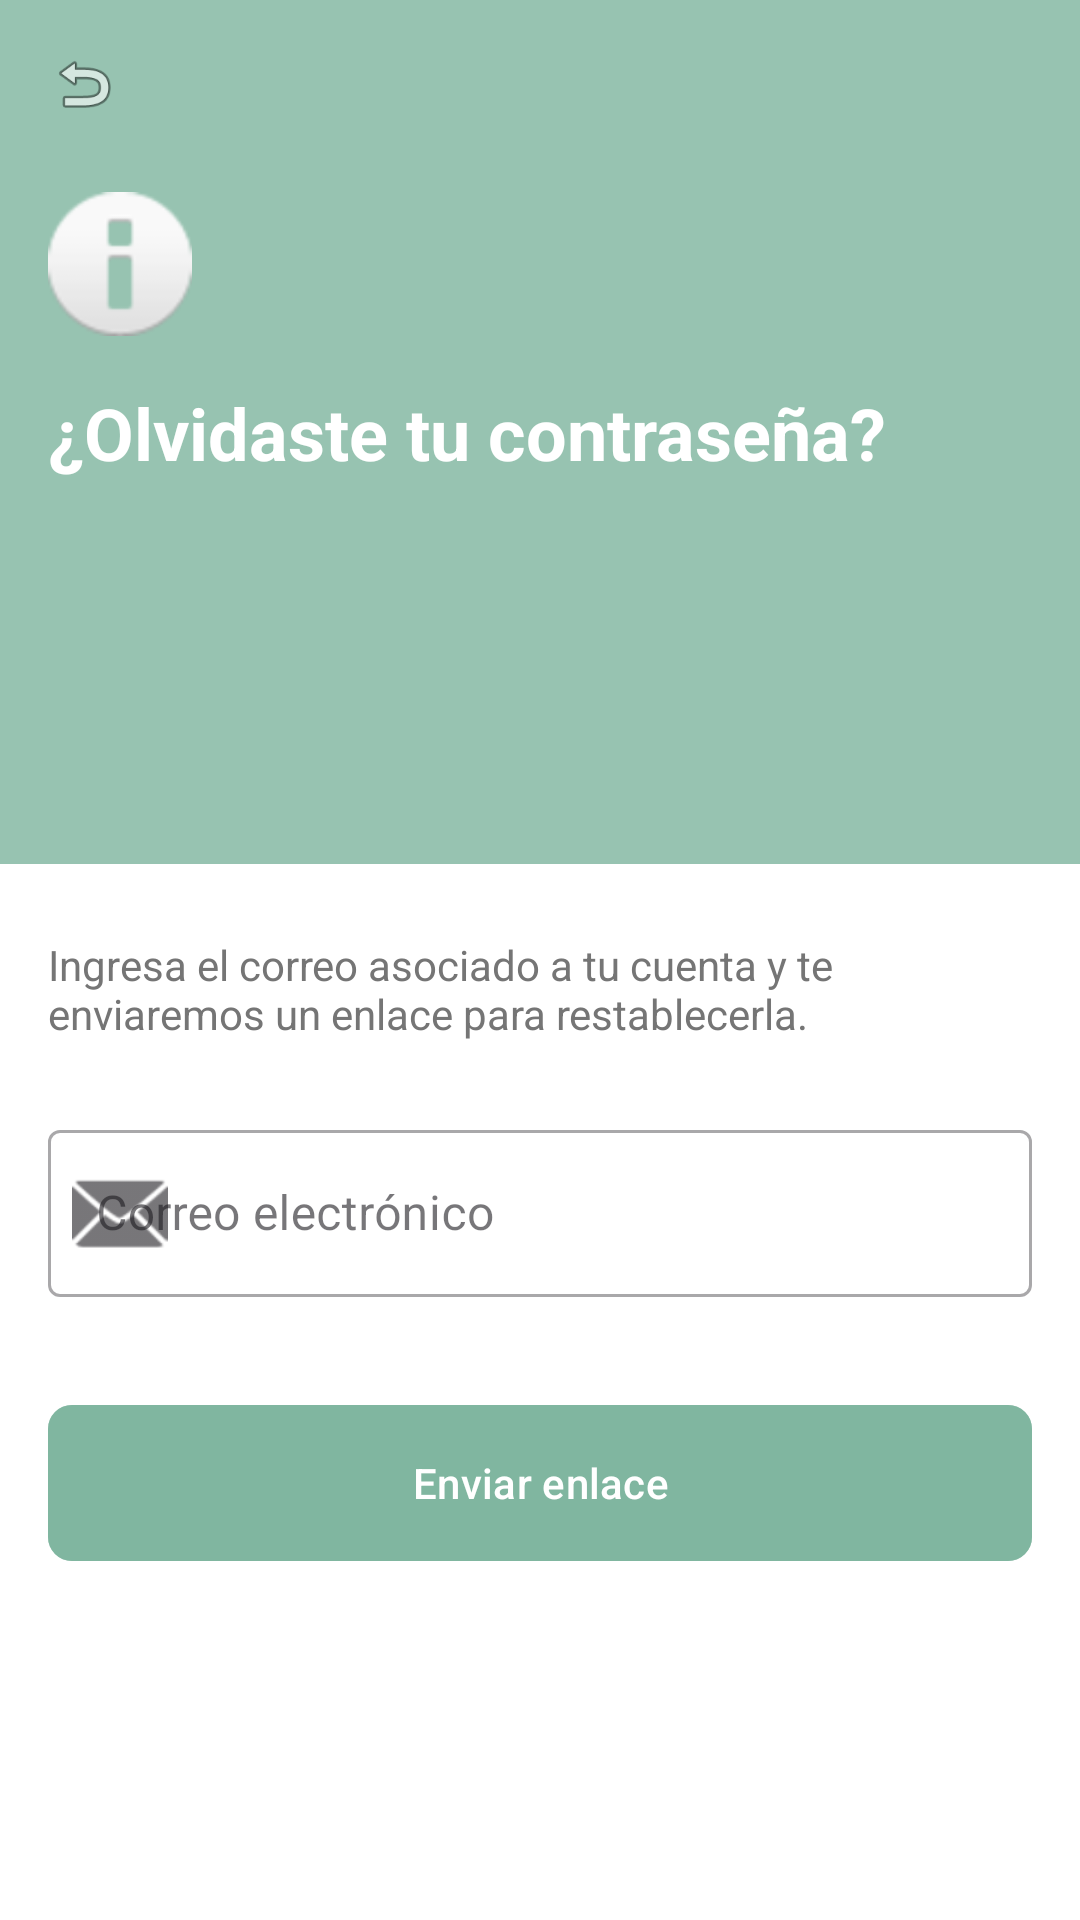

Icons on this 1080 × 1920 Android screen, each with the point to tap as [x,y]:
info: [120,264]
revert: [85,84]
